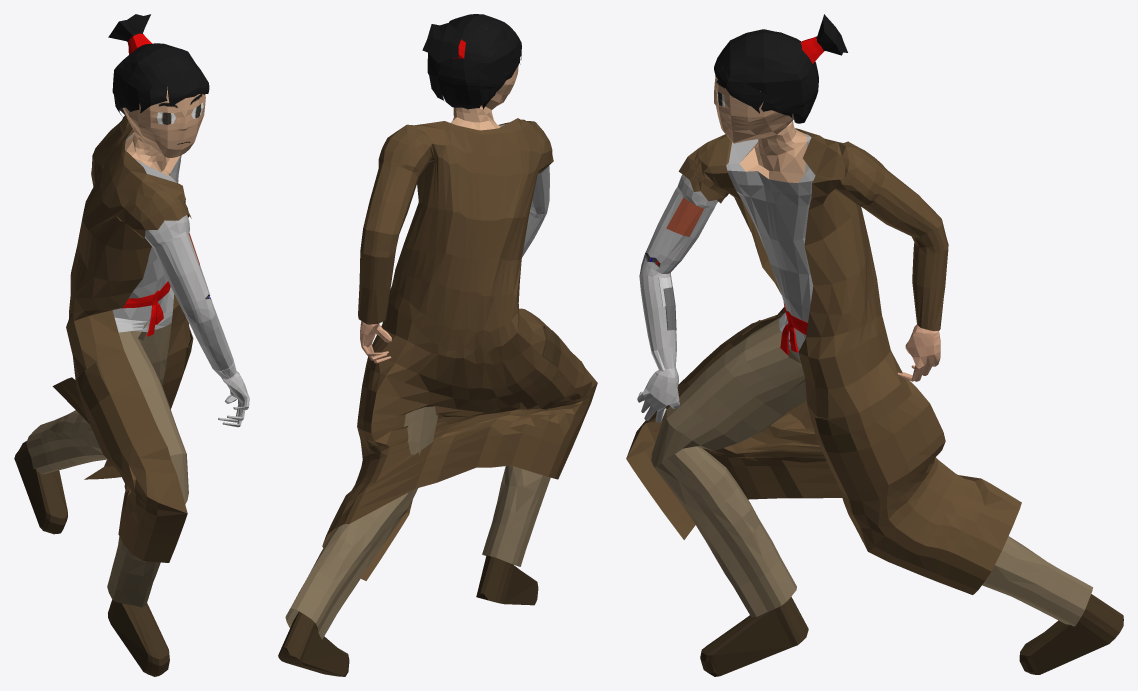
The model's file is OneAnimationTest_000003.obj.
The picture shows the model from 3 angles, left to right: view 1: azimuth 30°, elevation 25°; view 2: azimuth 150°, elevation 25°; view 3: azimuth 270°, elevation 25°; orthographic projection. The views are drawn at different scales.
Visible parts, largest first — view 1: Jacket_Cube, Body_Cube.003, Hair_Cube.004; view 2: Jacket_Cube, Body_Cube.003, Hair_Cube.004; view 3: Jacket_Cube, Body_Cube.003, Hair_Cube.004.
Part boxes in pixels (x1,y1,x2,y2): Jacket_Cube: [52, 116, 193, 562]; Body_Cube.003: [14, 87, 249, 676]; Hair_Cube.004: [108, 14, 209, 116]; Jacket_Cube: [322, 118, 597, 580]; Body_Cube.003: [278, 65, 550, 676]; Hair_Cube.004: [422, 14, 521, 109]; Jacket_Cube: [626, 128, 1021, 594]; Body_Cube.003: [637, 76, 1123, 676]; Hair_Cube.004: [714, 14, 847, 123].
Size of the model in its own units: 0.8851 by 3.61 by 2.43.
